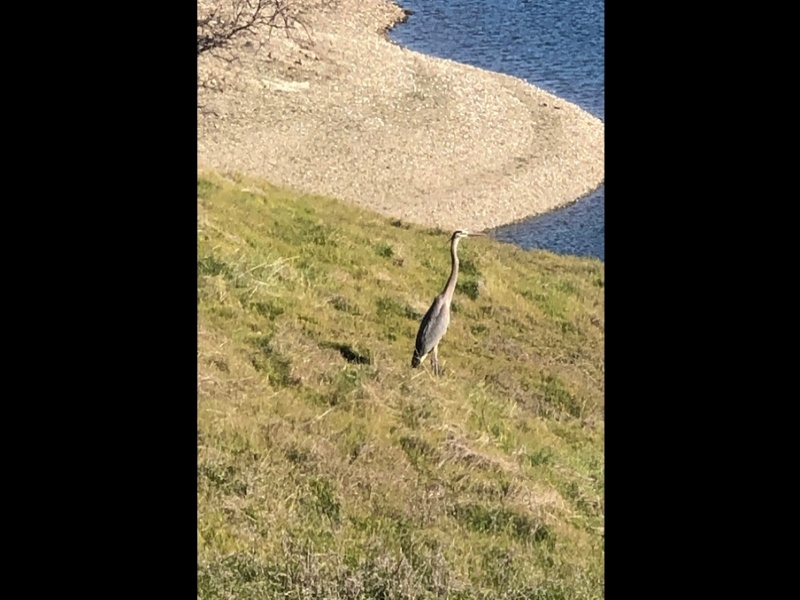heron: (415, 228, 489, 377)
